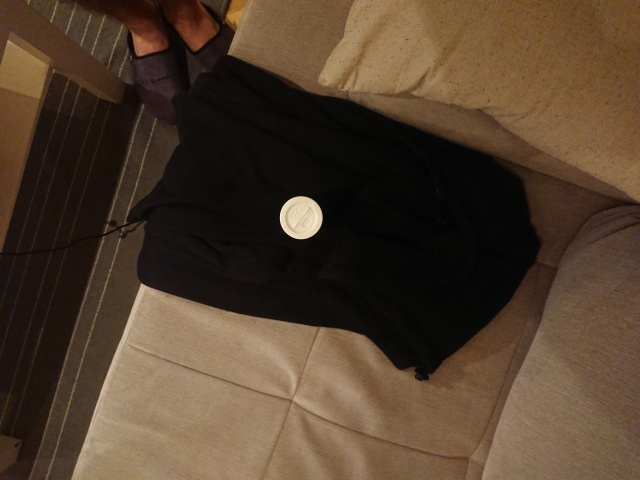Solana Pag Fine Sea Salt 250g: (277, 193, 325, 242)
